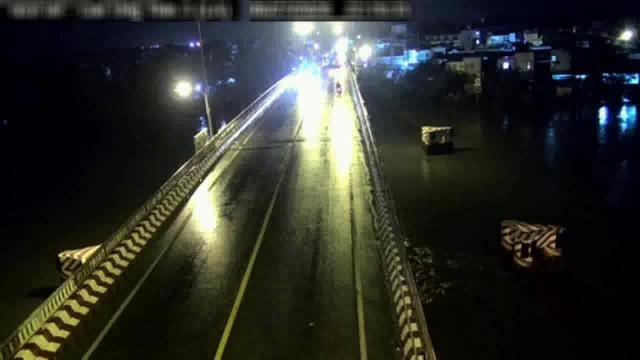Bike: (334, 79, 344, 95)
